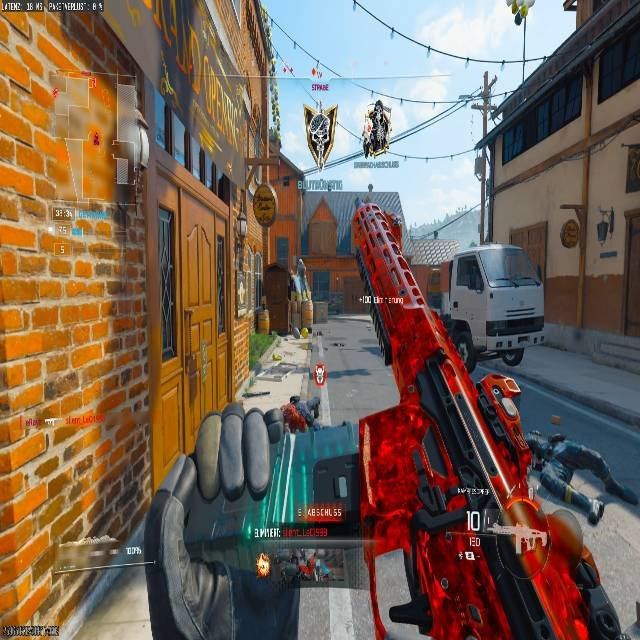player: (154, 324, 321, 638), (363, 100, 391, 157)
